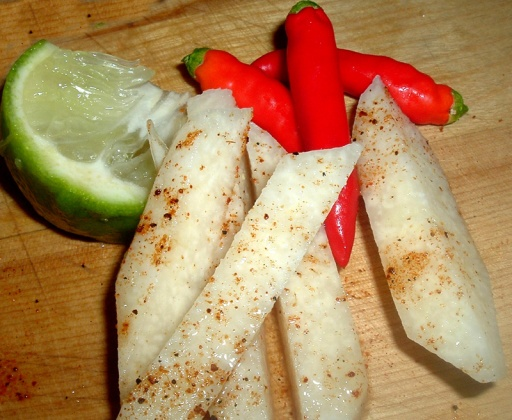background: (0, 0, 404, 276)
